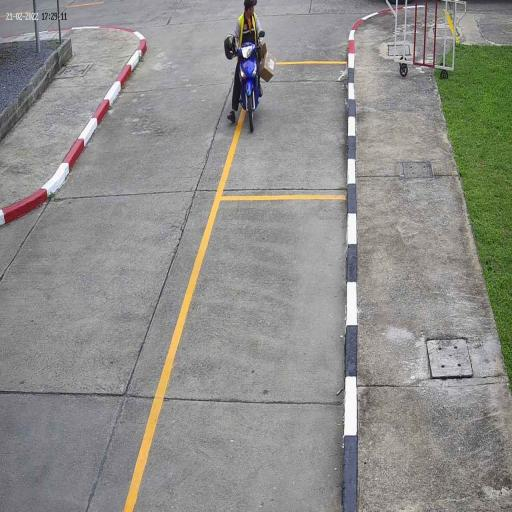motorcycle: (235, 40, 263, 134)
